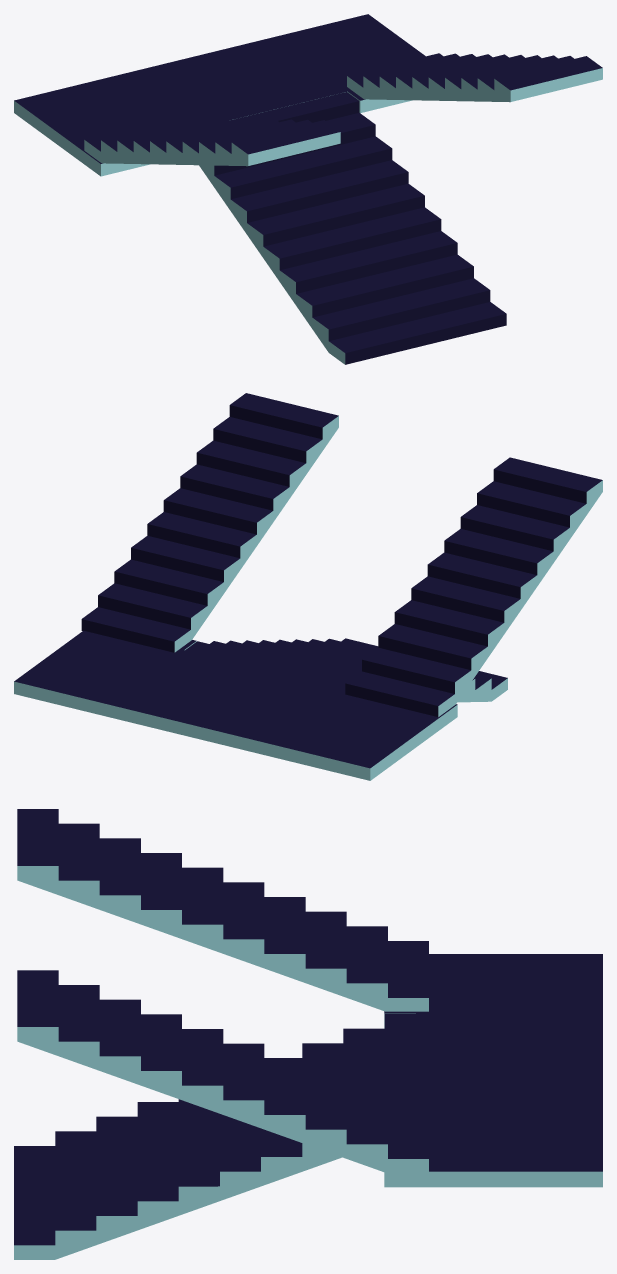
The model's file is Stair_A.fbx.
3 views of the same model, one above another, from view 1: azimuth 30°, elevation 25°; view 2: azimuth 150°, elevation 25°; view 3: azimuth 270°, elevation 25° (orthographic). The views are drawn at different scales.
Visible parts, largest first — view 1: Stair_A; view 2: Stair_A; view 3: Stair_A.
Part boxes in pixels (bbox=[...]): Stair_A: bbox=[14, 14, 602, 364]; Stair_A: bbox=[14, 393, 602, 780]; Stair_A: bbox=[14, 809, 602, 1259].
Bounding box in the file's own units: 5.09 × 3.17 × 5.79.
